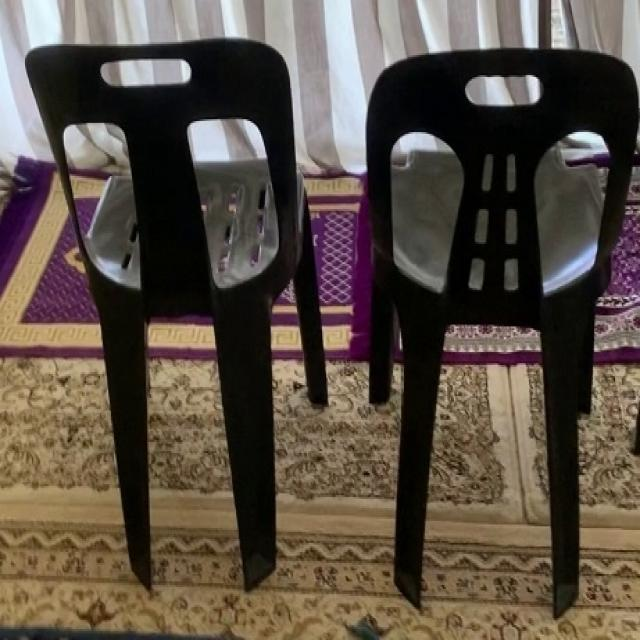Chair: (24, 33, 333, 600), (359, 40, 640, 623)
